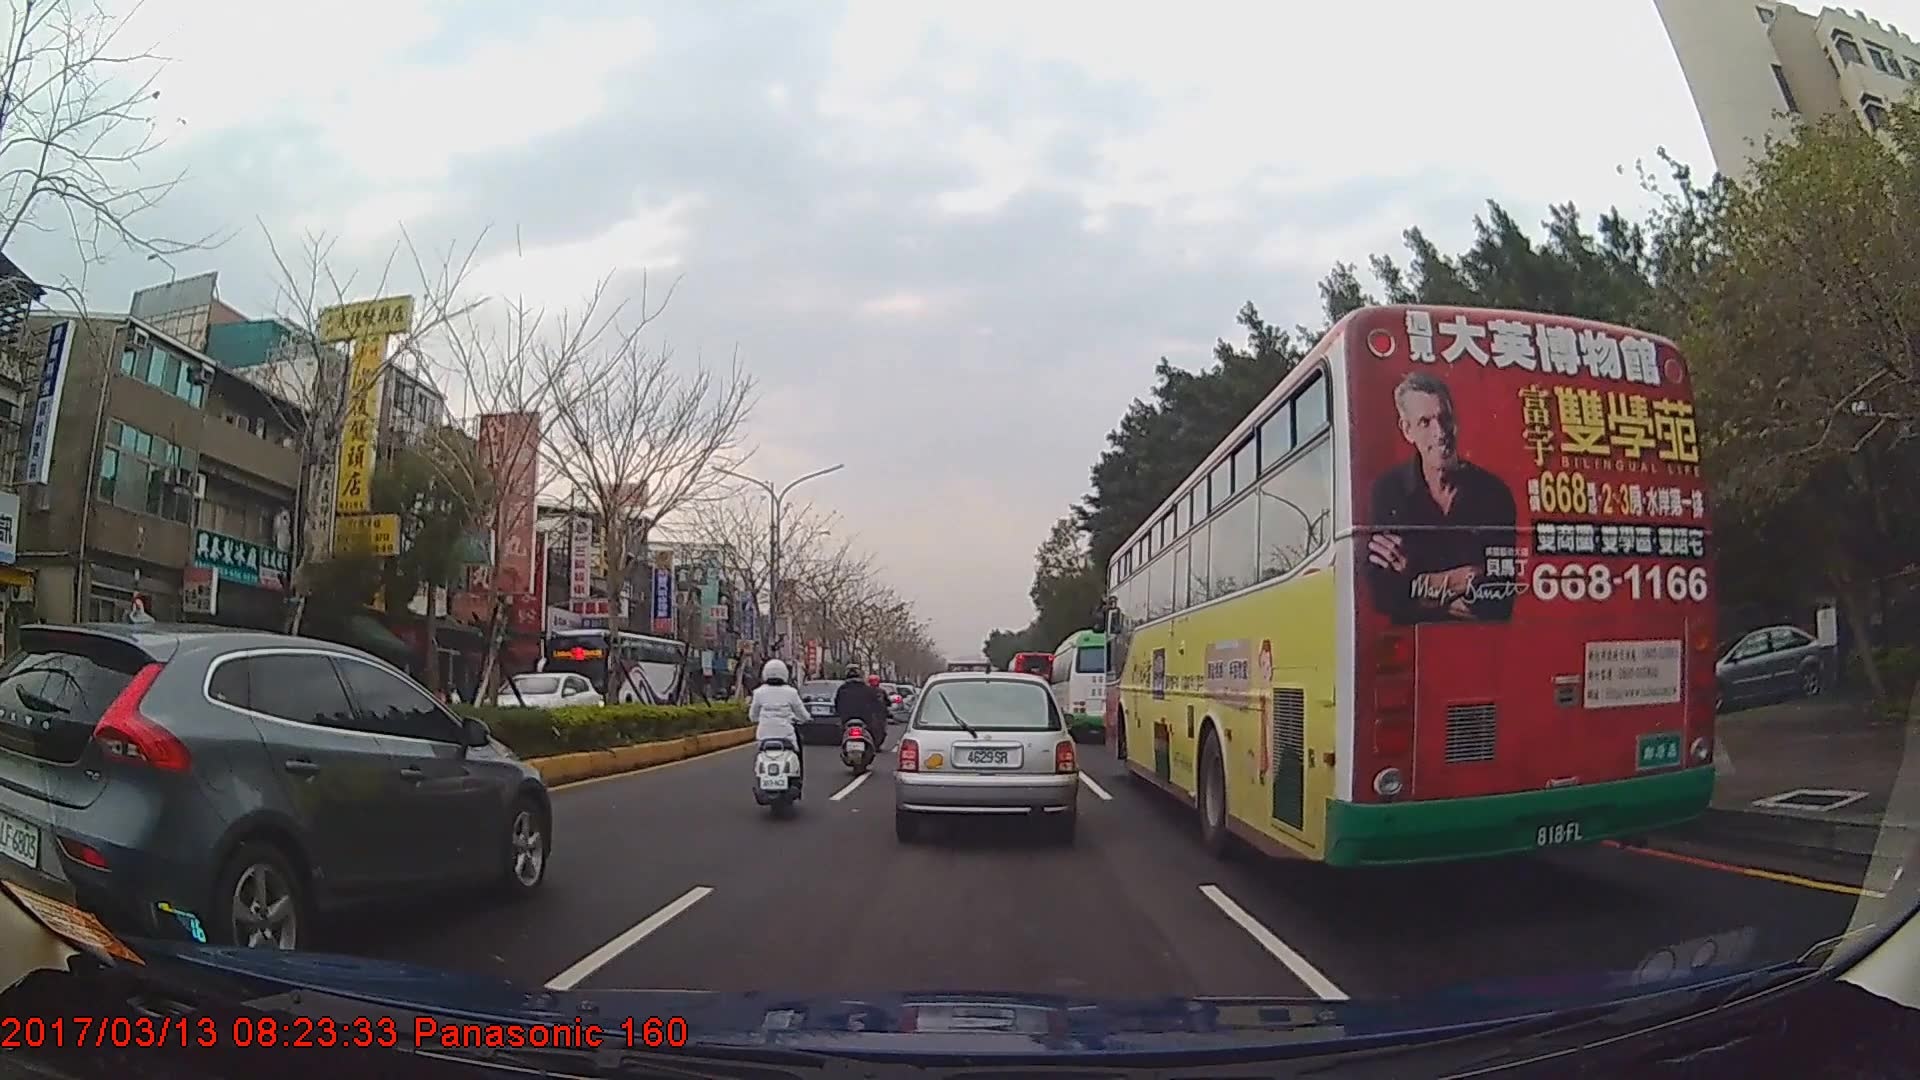rider: (748, 652, 812, 819), (836, 666, 887, 769), (863, 676, 892, 756)
vehicle: (1102, 300, 1718, 874), (0, 626, 552, 959), (897, 669, 1075, 840), (545, 629, 689, 730), (1049, 627, 1137, 741), (482, 670, 598, 736), (787, 680, 864, 745), (1006, 648, 1057, 721)
